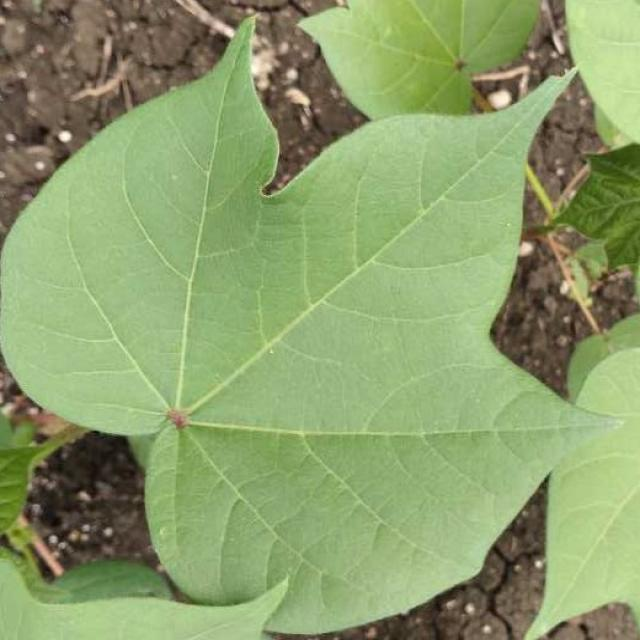Healthy Leaf: (64, 207, 480, 424)
